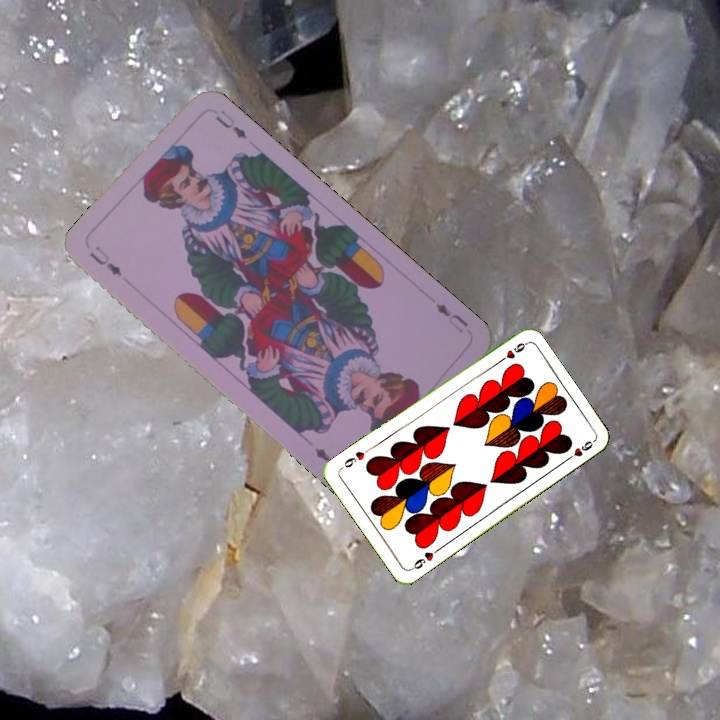EU: (85, 241, 124, 280), (431, 298, 471, 336)
H9: (406, 544, 442, 573), (493, 338, 528, 367)
